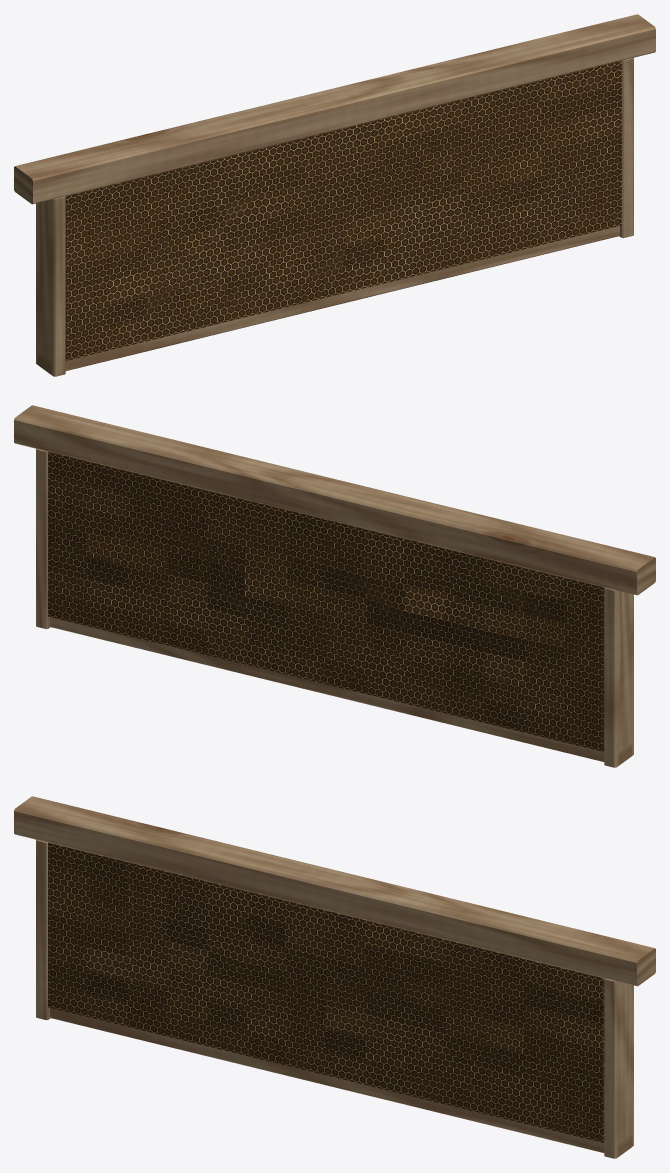
File: cuadro_vacio.glb
The picture shows the model from 3 angles, top to bottom: view 1: azimuth 30°, elevation 25°; view 2: azimuth 150°, elevation 25°; view 3: azimuth 330°, elevation 25°; orthographic projection.
Visible parts, largest first — view 1: CuadroVacio; view 2: CuadroVacio; view 3: CuadroVacio.
Part boxes in pixels (x1=…): CuadroVacio: x1=14, y1=14, x2=655, y2=376; CuadroVacio: x1=14, y1=405, x2=655, y2=767; CuadroVacio: x1=14, y1=796, x2=655, y2=1158.
Bounding box in the file's own units: 0.482 × 0.15 × 0.0293.
2 materials, 2 textured.
